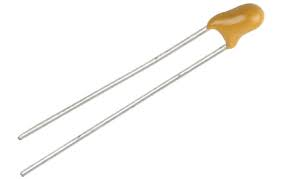ceramic capacitor: (159, 1, 278, 87)
